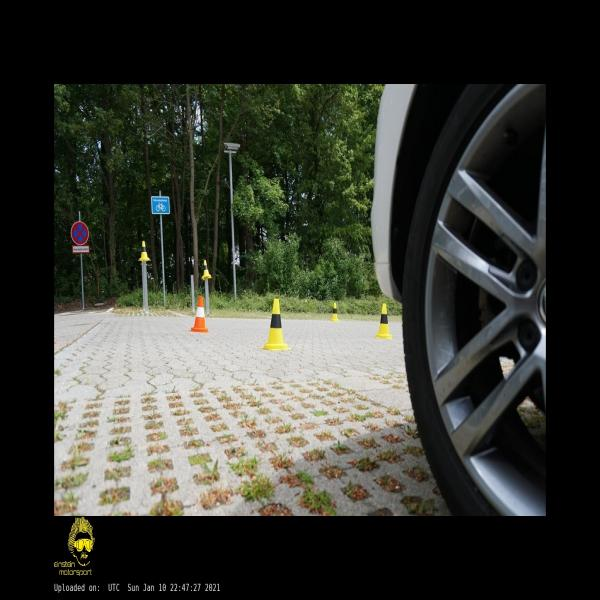orange_cone: (190, 296, 209, 332)
yellow_cone: (262, 299, 291, 350), (376, 303, 392, 338), (138, 241, 151, 261), (200, 260, 212, 280), (330, 302, 339, 321)
